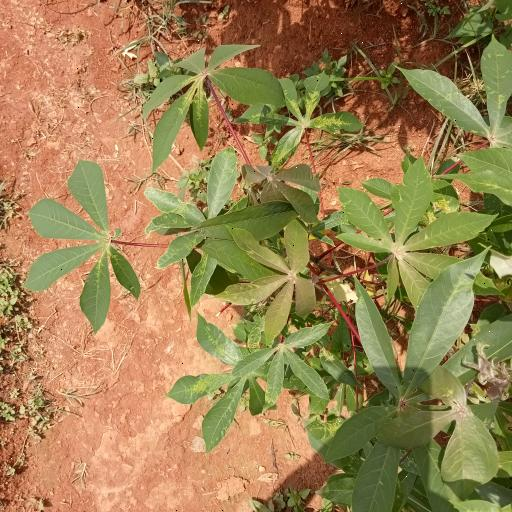Cassava_Healthy: (338, 150, 490, 305), (19, 163, 142, 342), (149, 42, 289, 164), (146, 148, 244, 295), (234, 319, 338, 407), (227, 226, 316, 323)
